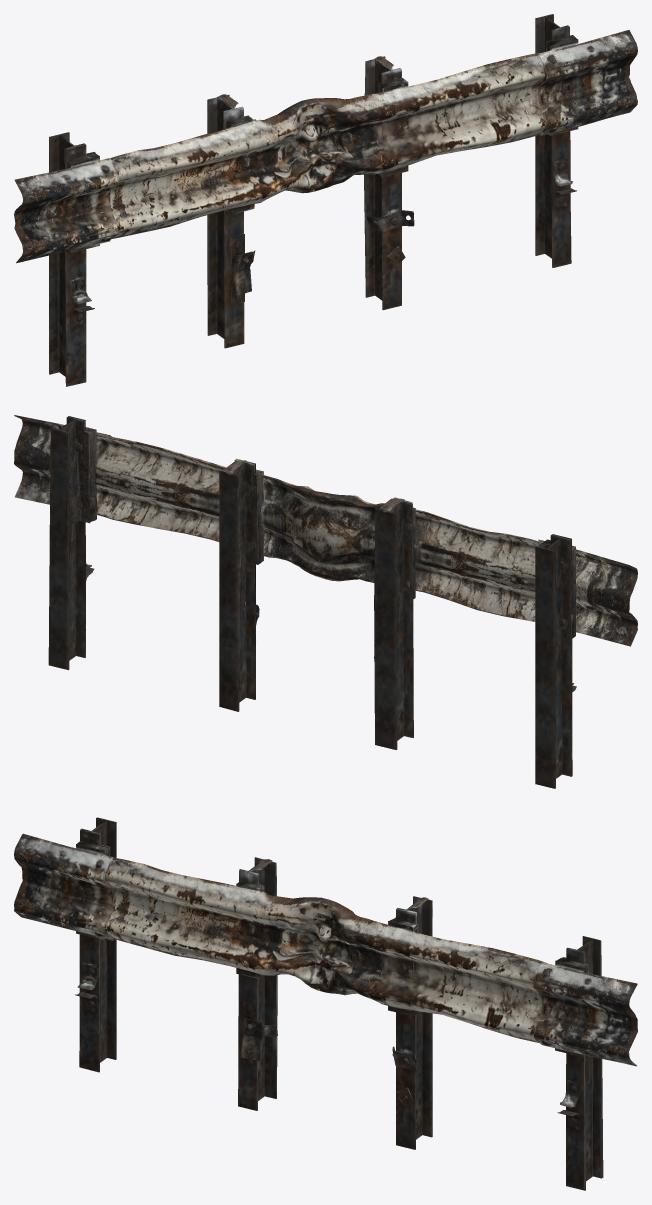
Rendered from road_guardrail.glb.
3 renders of one model, top to bottom at view 1: azimuth 30°, elevation 25°; view 2: azimuth 150°, elevation 25°; view 3: azimuth 330°, elevation 25°, orthographic.
Bounding box in the file's own units: 0.9575 × 0.355 × 0.0884.
1 material, 1 textured.
